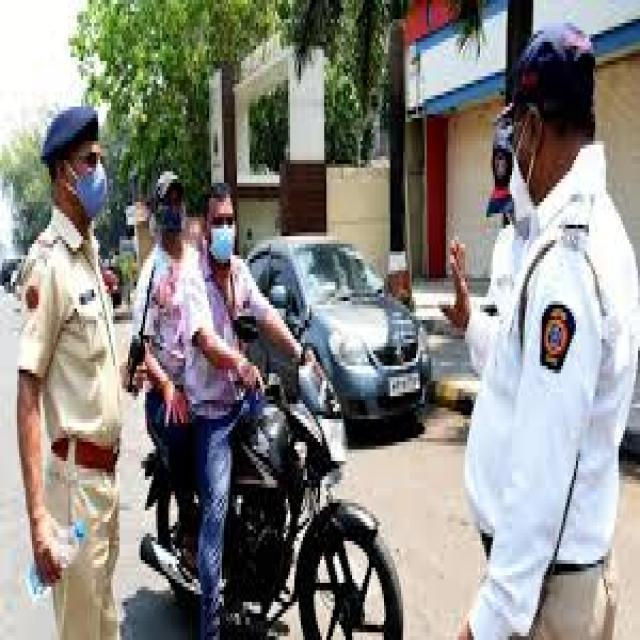No helmet: (187, 182, 249, 273)
